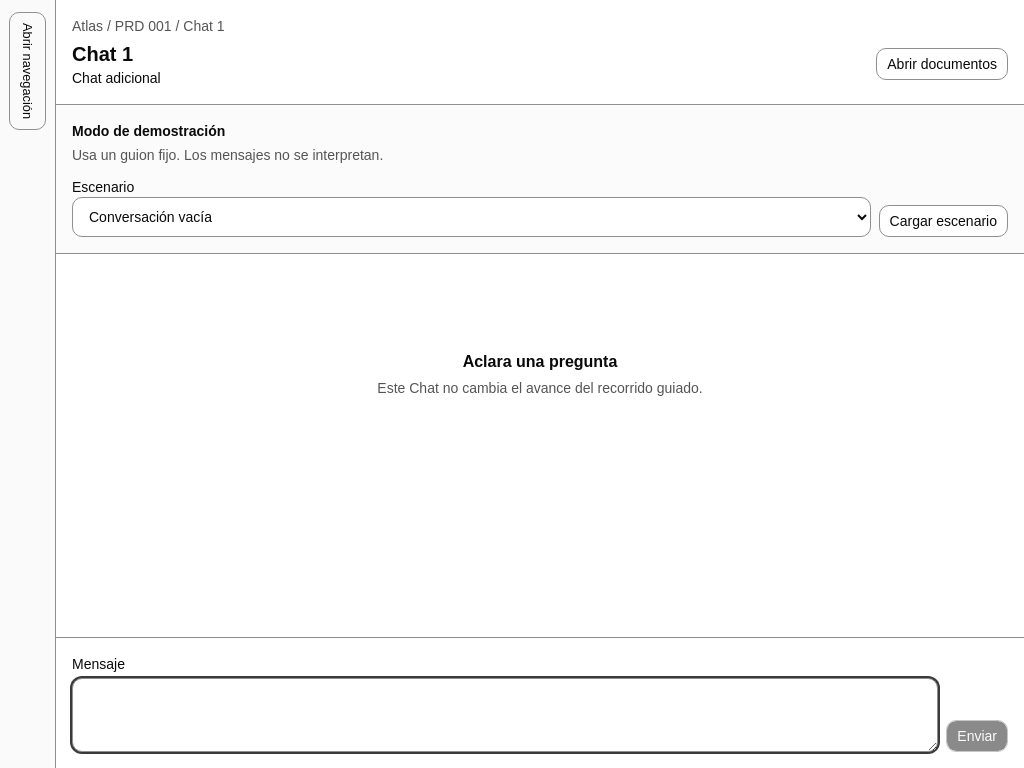
Test: WorkspaceShell › usa rail de navegación y documentos modales a 768 px con restauración de foco
This screenshot has width=1024, height=768.
Expected: the element named "Navegación contraída" is shown, left=0, top=0, right=56, bottom=767
Click the button "Abrir navegación".
click(28, 71)  # box left=9, top=12, right=46, bottom=130
(page scrolled)
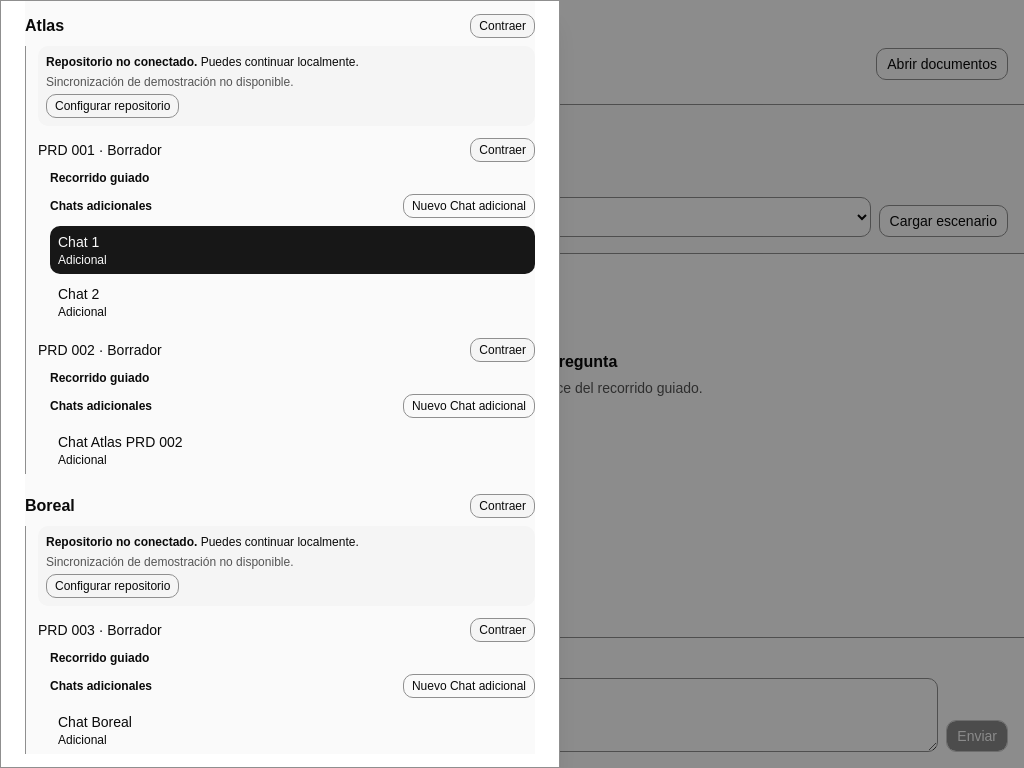
Expected: the navigation bar named "Projects, PRDs y Chats" is shown, left=25, top=14, right=535, bottom=754
Press Escape
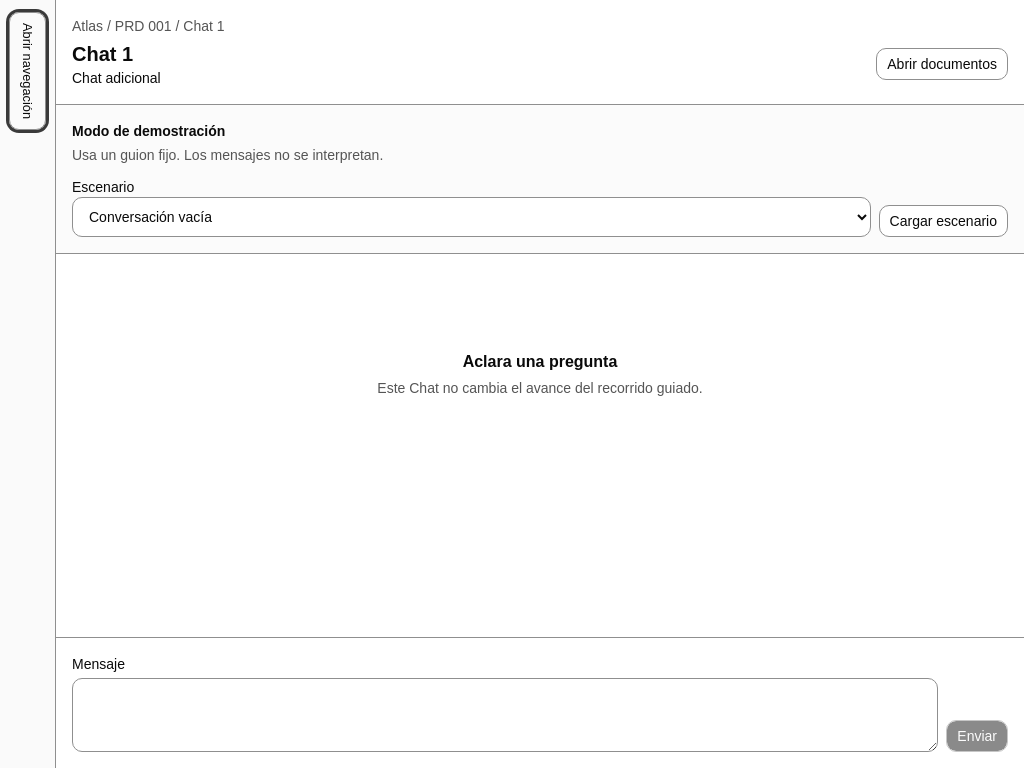
Click the button "Abrir documentos".
click(942, 64)  # box left=876, top=48, right=1008, bottom=80
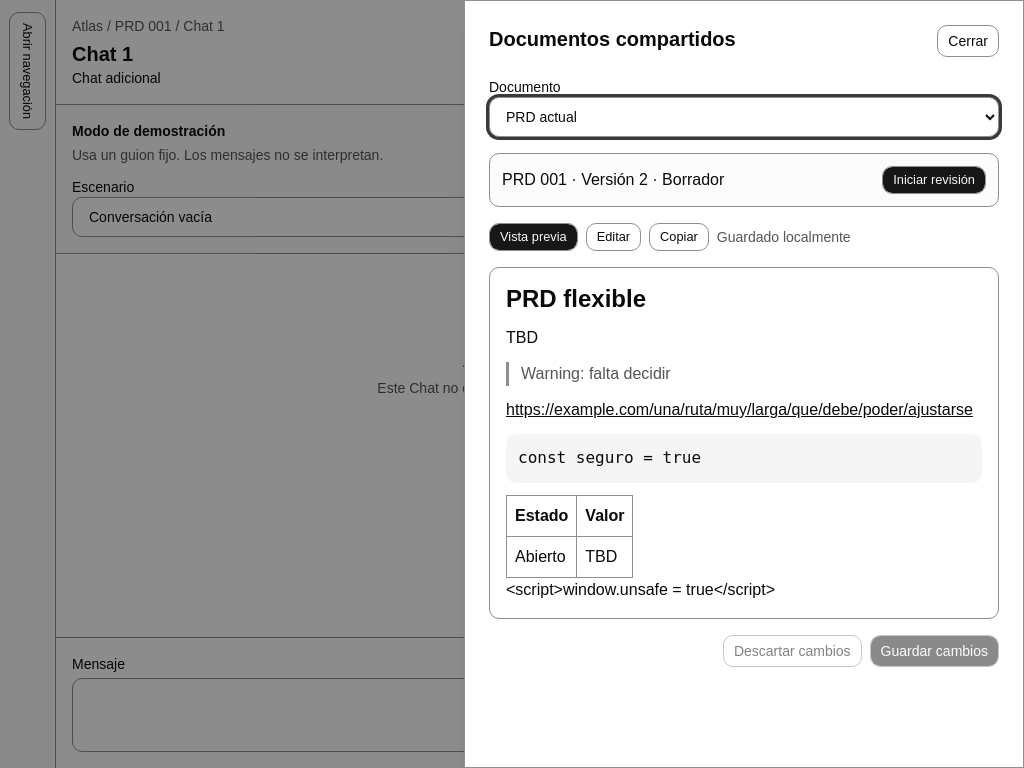
Expected: the dialog "Documentos compartidos" is shown, left=464, top=0, right=1023, bottom=767
Press Escape
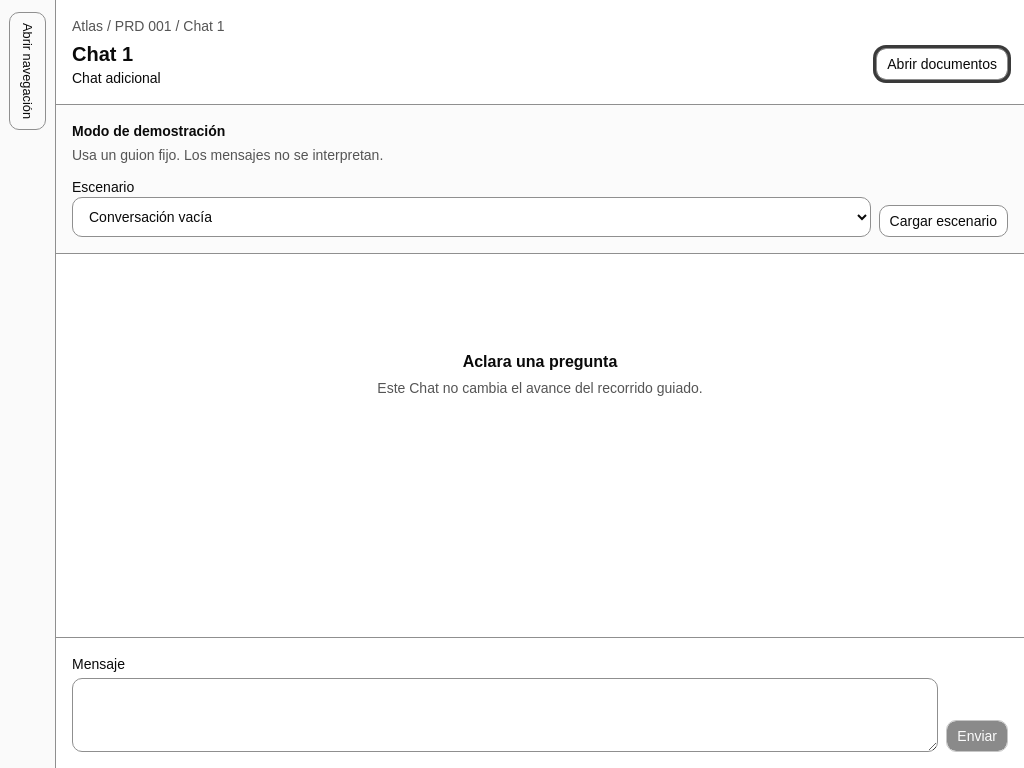
Expected: the heading "Documentos compartidos" is gone
